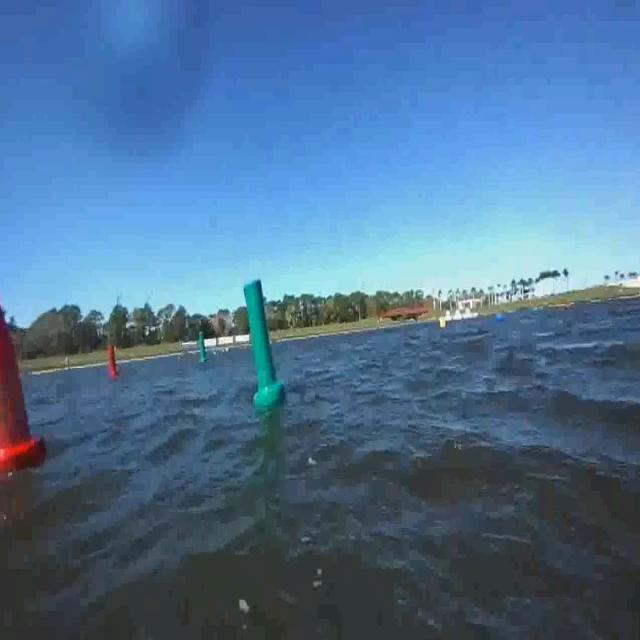blue-buoy: (496, 309, 504, 323)
green-column-buoy: (245, 277, 288, 409), (200, 333, 210, 365)
red-column-buoy: (0, 286, 46, 470), (106, 346, 119, 378)
yellow-buoy: (441, 317, 448, 330)
